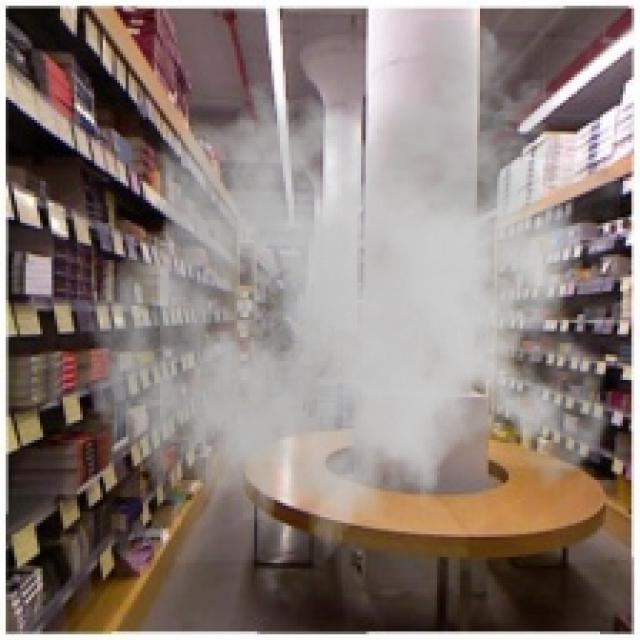smoke: (86, 20, 620, 580)
